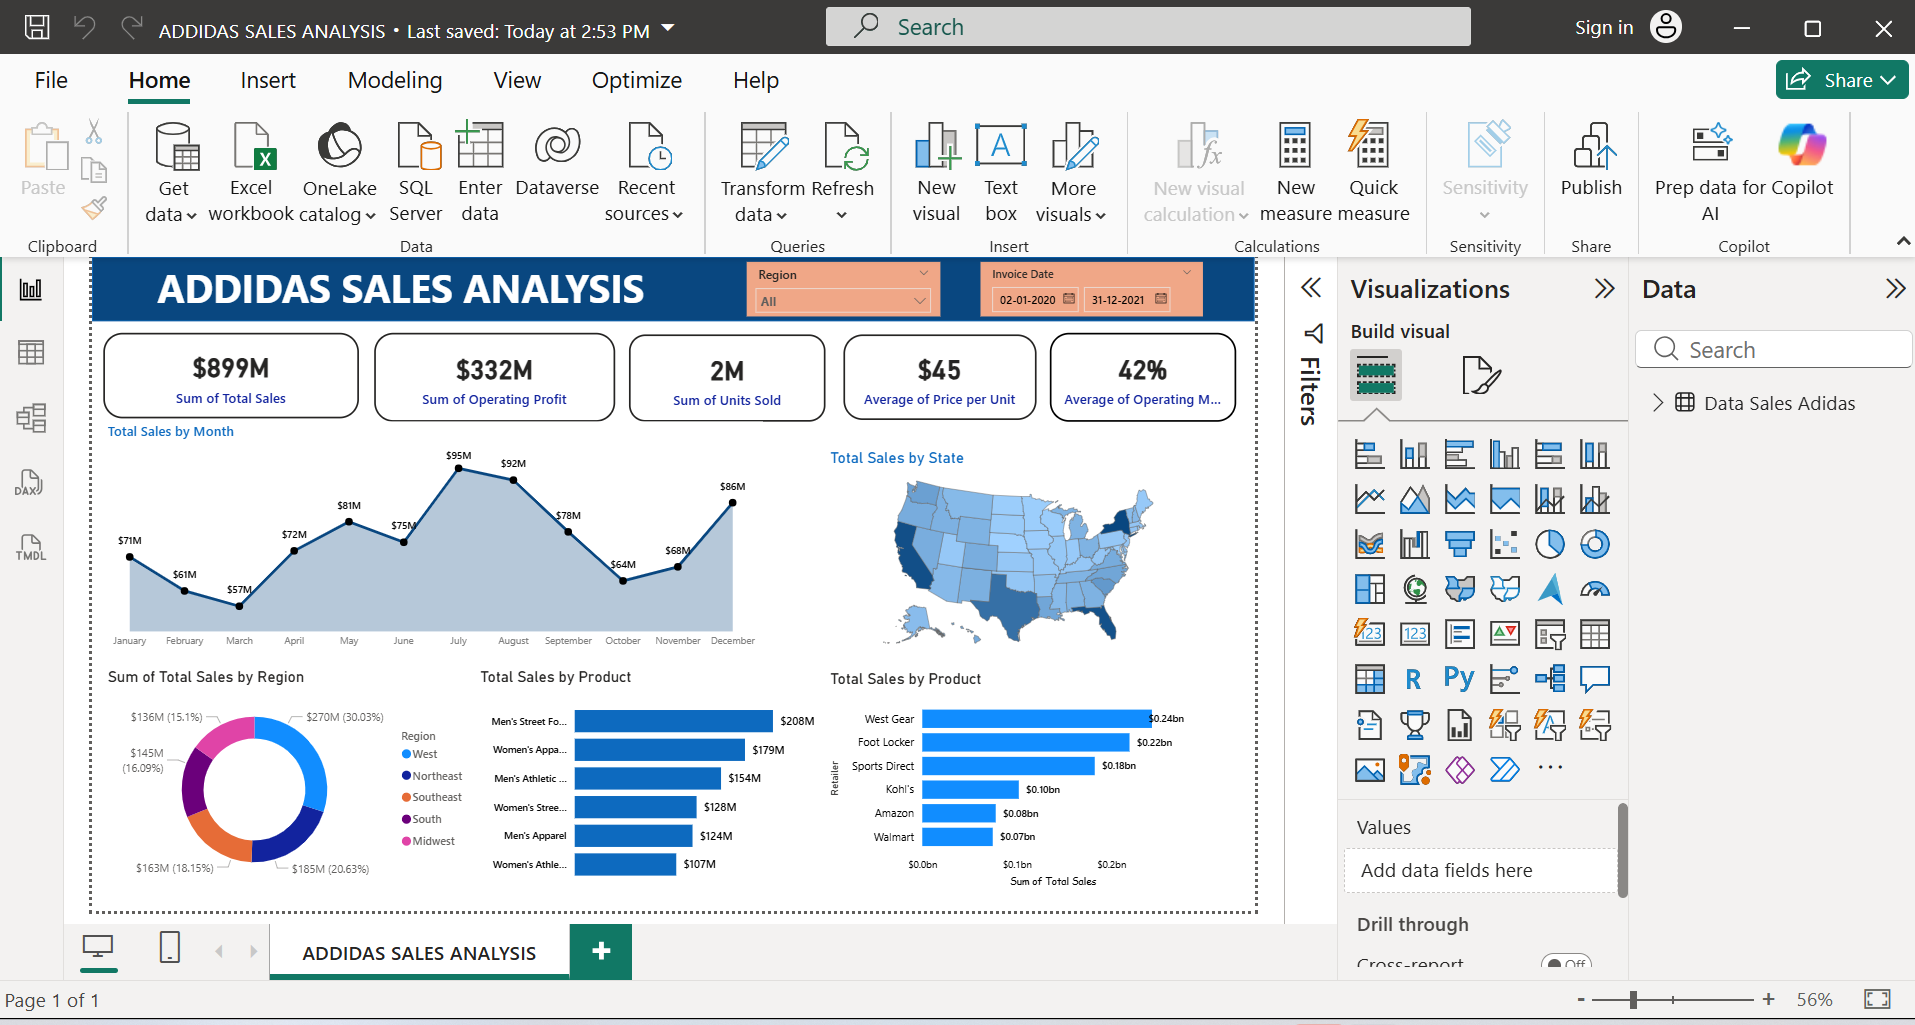

Layout of this report page (visuals, bound fields, positions):
{"tool":"powerbi","page":{"name":"ADDIDAS SALES ANALYSIS","canvas":[1280,720],"ordinal":0},"visuals":[{"type":"shape","box":[0,0,1280,70.9],"z":0},{"type":"textbox","box":[12.4,0,655.2,71],"z":1000},{"type":"card","fields":{"Values":["Sum(Data Sales Adidas.Total Sales)"]},"box":[12.7,83.6,281.8,94.5],"z":2000},{"type":"card","fields":{"Values":["Sum(Data Sales Adidas.Operating Profit)"]},"box":[310.9,83.6,265.5,98.2],"z":3000},{"type":"card","fields":{"Values":["Sum(Data Sales Adidas.Units Sold)"]},"box":[590.9,85.5,216.4,96.4],"z":4000},{"type":"card","fields":{"Values":["Avg(Data Sales Adidas.Price per Unit)"]},"box":[827.3,85.5,212.7,94.5],"z":5000},{"type":"card","fields":{"Values":["Avg(Data Sales Adidas.Operating Margin)"]},"box":[1054.5,83.6,205.5,98.2],"z":6000},{"type":"areaChart","title":"Total Sales by Month","fields":{"Category":["Data Sales Adidas.Invoice Date.Variation.Date Hierarchy.Month"],"Y":["Sum(Data Sales Adidas.Total Sales)"]},"box":[12.4,181.1,726.2,259.2],"z":7000},{"type":"shapeMap","title":" Total Sales by State","fields":{"Category":["Data Sales Adidas.State"],"Value":["Sum(Data Sales Adidas.Total Sales)"]},"box":[807.9,211.3,424.4,229.1],"z":8000},{"type":"donutChart","fields":{"Category":["Data Sales Adidas.Region"],"Y":["Sum(Data Sales Adidas.Total Sales)"]},"box":[12.4,452.8,410,246.8],"z":9000},{"type":"barChart","title":"Total Sales by Product","fields":{"Category":["Data Sales Adidas.Product"],"Y":["Sum(Data Sales Adidas.Total Sales)"]},"box":[422.6,452.8,385.3,246.8],"z":10000},{"type":"barChart","title":"Total Sales by Product","fields":{"Category":["Data Sales Adidas.Retailer"],"Y":["Sum(Data Sales Adidas.Total Sales)"]},"box":[807.9,454.6,415.5,245],"z":11000},{"type":"slicer","fields":{"Values":["Data Sales Adidas.Region"]},"box":[720.9,5.3,213.1,60.4],"z":12000},{"type":"slicer","fields":{"Values":["Data Sales Adidas.Invoice Date"]},"box":[978.4,5.3,245,60.4],"z":13000}]}

Visuals, with their boxes on the page's 1280x720 design canvas (x1, y1, x2, y2). These are canvas units, not pixel positions in the 1915x1025 screenshot, which may show the page scaled, cropped or inside an application window:
shape: (left=0, top=0, right=1280, bottom=71)
textbox: (left=12, top=0, right=668, bottom=71)
card - Sum(Data Sales Adidas.Total Sales): (left=13, top=84, right=294, bottom=178)
card - Sum(Data Sales Adidas.Operating Profit): (left=311, top=84, right=576, bottom=182)
card - Sum(Data Sales Adidas.Units Sold): (left=591, top=86, right=807, bottom=182)
card - Avg(Data Sales Adidas.Price per Unit): (left=827, top=86, right=1040, bottom=180)
card - Avg(Data Sales Adidas.Operating Margin): (left=1054, top=84, right=1260, bottom=182)
"Total Sales by Month" areaChart: (left=12, top=181, right=739, bottom=440)
" Total Sales by State" shapeMap: (left=808, top=211, right=1232, bottom=440)
donutChart - Data Sales Adidas.Region x Sum(Data Sales Adidas.Total Sales): (left=12, top=453, right=422, bottom=700)
"Total Sales by Product" barChart: (left=423, top=453, right=808, bottom=700)
"Total Sales by Product" barChart: (left=808, top=455, right=1223, bottom=700)
slicer - Data Sales Adidas.Region: (left=721, top=5, right=934, bottom=66)
slicer - Data Sales Adidas.Invoice Date: (left=978, top=5, right=1223, bottom=66)
